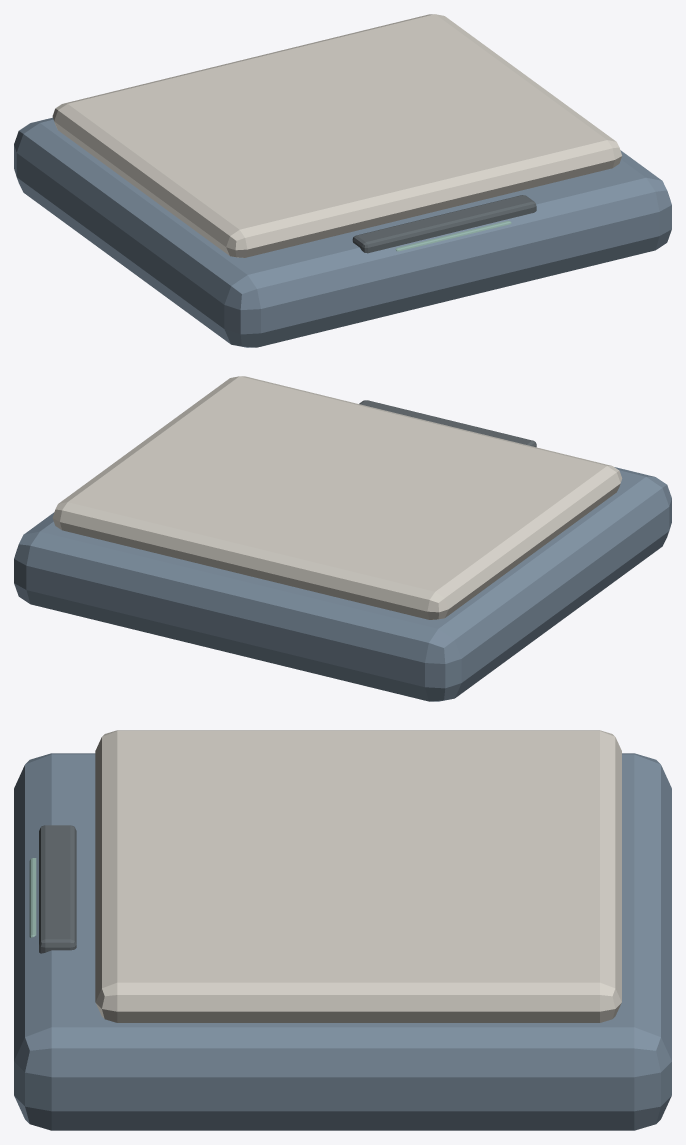
The model's file is elet_balanca_coz.glb.
3 views of the same model, one above another, from view 1: azimuth 30°, elevation 25°; view 2: azimuth 150°, elevation 25°; view 3: azimuth 270°, elevation 25° (orthographic). The views are drawn at different scales.
Visible parts, largest first — view 1: ELET_BalancaCoz_Plataforma, ELET_BalancaCoz_Base, ELET_BalancaCoz_Display, ELET_BalancaCoz_LCD; view 2: ELET_BalancaCoz_Plataforma, ELET_BalancaCoz_Base, ELET_BalancaCoz_Display; view 3: ELET_BalancaCoz_Plataforma, ELET_BalancaCoz_Base, ELET_BalancaCoz_Display, ELET_BalancaCoz_LCD.
Part boxes in pixels (<box>): ELET_BalancaCoz_Plataforma: <box>52,14,621,257</box>; ELET_BalancaCoz_Base: <box>14,117,671,347</box>; ELET_BalancaCoz_Display: <box>352,195,536,253</box>; ELET_BalancaCoz_LCD: <box>395,220,511,251</box>; ELET_BalancaCoz_Plataforma: <box>52,376,622,619</box>; ELET_BalancaCoz_Base: <box>14,467,671,701</box>; ELET_BalancaCoz_Display: <box>359,400,536,447</box>; ELET_BalancaCoz_Plataforma: <box>95,730,621,1022</box>; ELET_BalancaCoz_Base: <box>14,753,671,1130</box>; ELET_BalancaCoz_Display: <box>39,825,76,953</box>; ELET_BalancaCoz_LCD: <box>29,858,36,937</box>.
Bounding box in the file's own units: 0.23 × 0.048 × 0.21.
